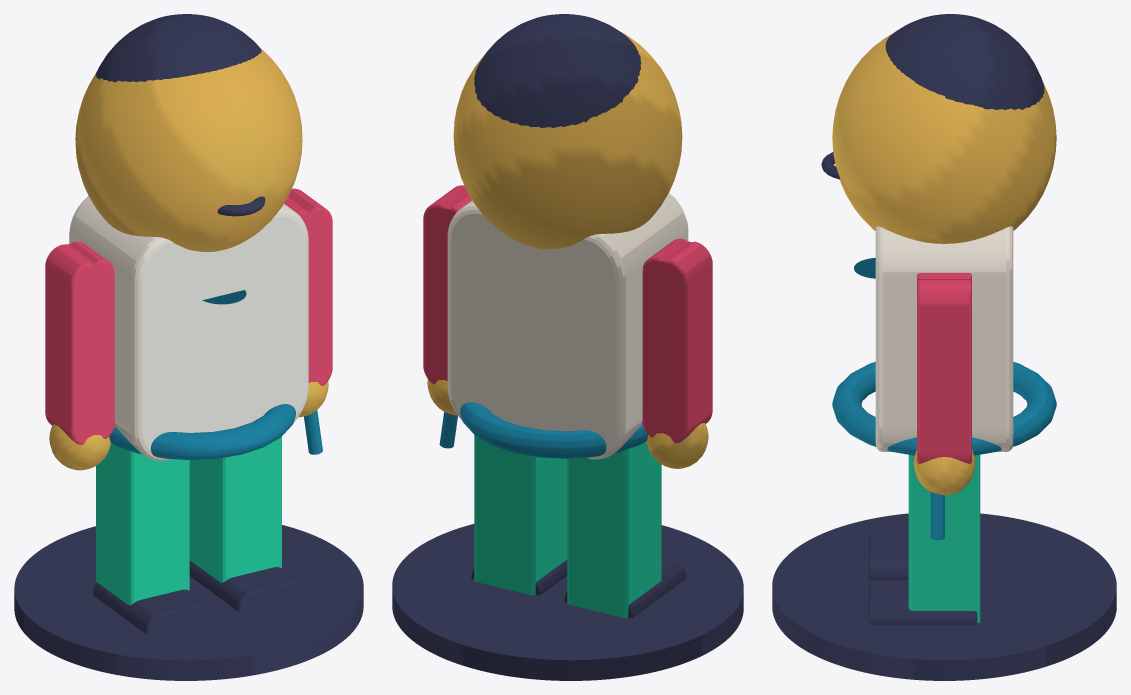
File: 1070_古文观止_安陵国.glb
3 renders of one model, left to right at view 1: azimuth 30°, elevation 25°; view 2: azimuth 150°, elevation 25°; view 3: azimuth 270°, elevation 25°, orthographic.
Parts seen in each view (by area): view 1: card_1070; view 2: card_1070; view 3: card_1070.
Part boxes in pixels (x1,y1,x2,y2): card_1070: (14,14,363,680); card_1070: (392,14,743,680); card_1070: (772,14,1116,680).
Bounding box in the file's own units: 0.5428 × 1 × 0.5324.
